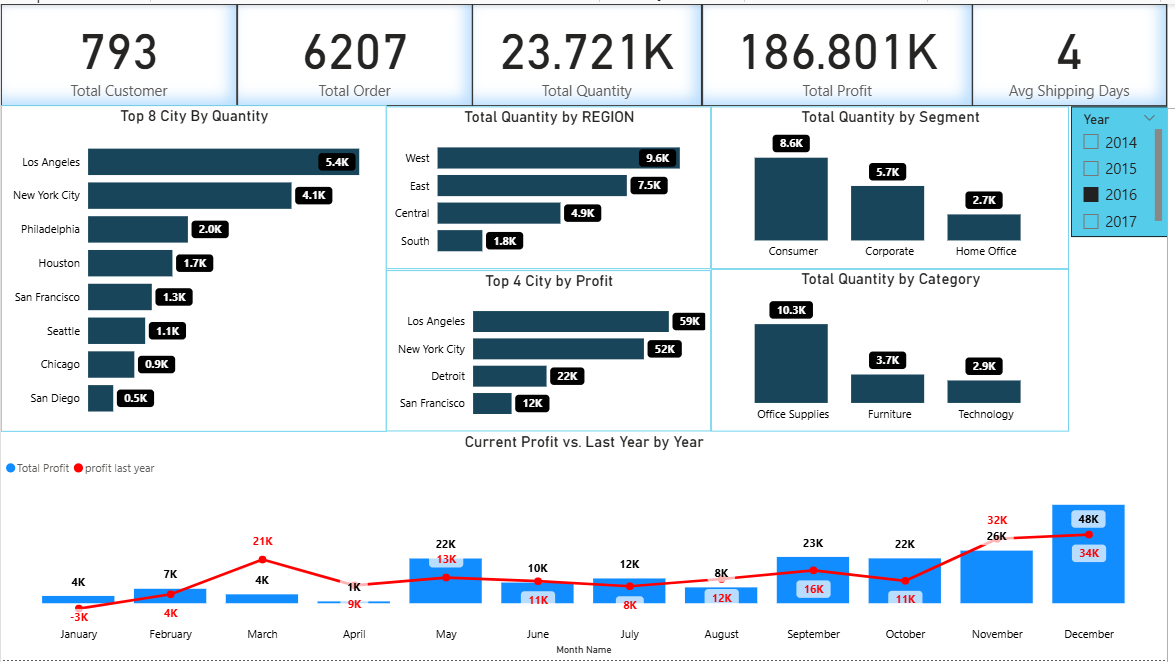

The page's visual inventory and layout, read from the dashboard file:
{"tool":"powerbi","page":{"name":"Page 2","canvas":[1280,720],"ordinal":1},"visuals":[{"type":"lineStackedColumnComboChart","title":"Current Profit vs. Last Year by Year","fields":{"Category":["Calendar.Month Name"],"Y":["Mesure.Total Profit"],"Y2":["Mesure.profit last year"]},"box":[0,470.4,1280.3,249.6],"z":0},{"type":"slicer","fields":{"Values":["Calendar.Year"]},"box":[1174.2,112.3,106.1,143.5],"z":1000},{"type":"card","fields":{"Values":["Mesure.Total Customer"]},"box":[0,0,259.5,112.3],"z":2000},{"type":"card","fields":{"Values":["Mesure.Total Order"]},"box":[259.5,0,258.3,112.3],"z":3000},{"type":"card","fields":{"Values":["Mesure.Total Quantity"]},"box":[517.8,0,252.1,112.3],"z":4000},{"type":"card","fields":{"Values":["Mesure.Total Profit"]},"box":[769.9,0,297,112.3],"z":5000},{"type":"card","fields":{"Values":["Mesure.Avg Shipping Days"]},"box":[1066.9,0,213.4,112.3],"z":6000},{"type":"barChart","fields":{"Category":["geographyDim.REGION"],"Y":["Mesure.Total Quantity"]},"box":[423,112.3,356.9,178.4],"z":7000},{"type":"barChart","title":"Top 8 City By Quantity","fields":{"Y":["Mesure.Total Quantity"],"Category":["geographyDim.CITY"]},"box":[0,111.1,423,358.1],"z":8000},{"type":"columnChart","title":"Total Quantity by Segment","fields":{"Y":["Mesure.Total Quantity"],"Category":["customerDim.SEGMENT"]},"box":[779.9,112.3,393.1,178.4],"z":9000},{"type":"barChart","title":"Top 4 City by Profit","fields":{"Category":["geographyDim.CITY"],"Y":["Mesure.Total Profit"]},"box":[423,292,356.9,177.2],"z":10000},{"type":"columnChart","title":"Total Quantity by Category","fields":{"Y":["Mesure.Total Quantity"],"Category":["productDim.CATEGORY"]},"box":[779.9,290.7,393.1,178.4],"z":11000}]}

Visuals, with their boxes in screenshot pixels (x1, y1, x2, y2), scaled from the page's 1280x720 canvas onto the 1175x662 screenshot:
"Current Profit vs. Last Year by Year" lineStackedColumnComboChart: (x1=0, y1=433, x2=1174, y2=661)
slicer - Calendar.Year: (x1=1078, y1=103, x2=1174, y2=235)
card - Mesure.Total Customer: (x1=0, y1=0, x2=238, y2=103)
card - Mesure.Total Order: (x1=238, y1=0, x2=475, y2=103)
card - Mesure.Total Quantity: (x1=475, y1=0, x2=707, y2=103)
card - Mesure.Total Profit: (x1=707, y1=0, x2=979, y2=103)
card - Mesure.Avg Shipping Days: (x1=979, y1=0, x2=1174, y2=103)
barChart - geographyDim.REGION x Mesure.Total Quantity: (x1=388, y1=103, x2=716, y2=267)
"Top 8 City By Quantity" barChart: (x1=0, y1=102, x2=388, y2=431)
"Total Quantity by Segment" columnChart: (x1=716, y1=103, x2=1077, y2=267)
"Top 4 City by Profit" barChart: (x1=388, y1=268, x2=716, y2=431)
"Total Quantity by Category" columnChart: (x1=716, y1=267, x2=1077, y2=431)
